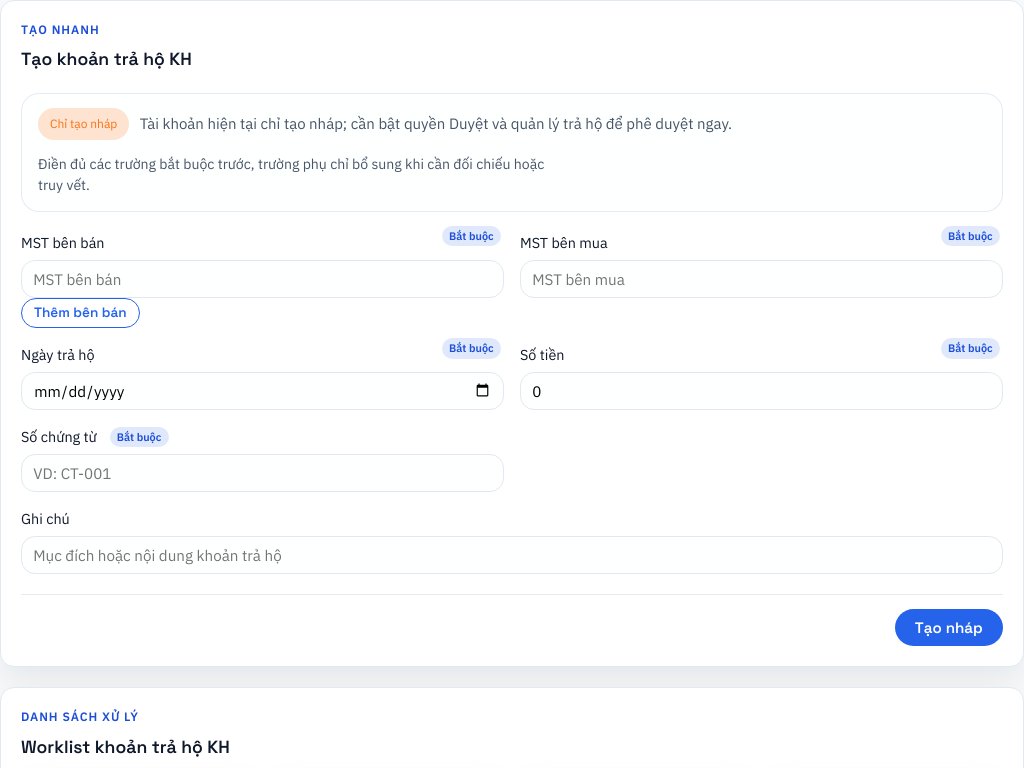
Test: ManualAdvancesSection › requires advance number before creating a draft
Type "SELLER01" into the field labelled "MST bên bán" at (262, 279), box [21, 260, 504, 298]
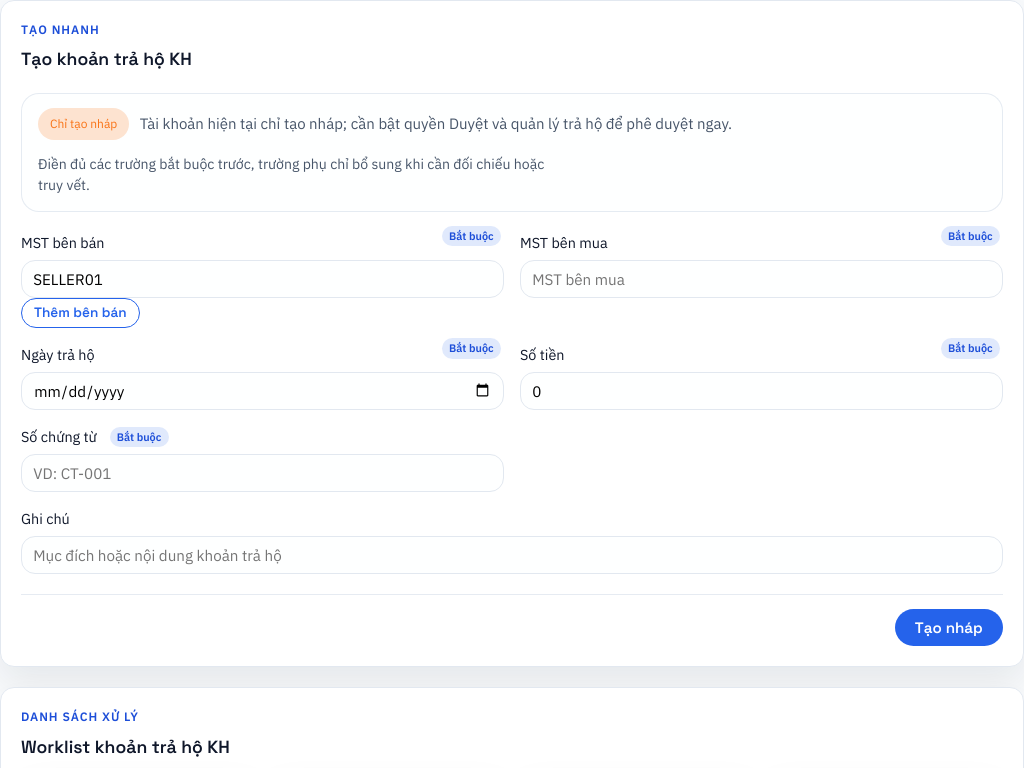
Type "CUST01" into the field labelled "MST bên mua" at (762, 279), box [520, 260, 1003, 298]
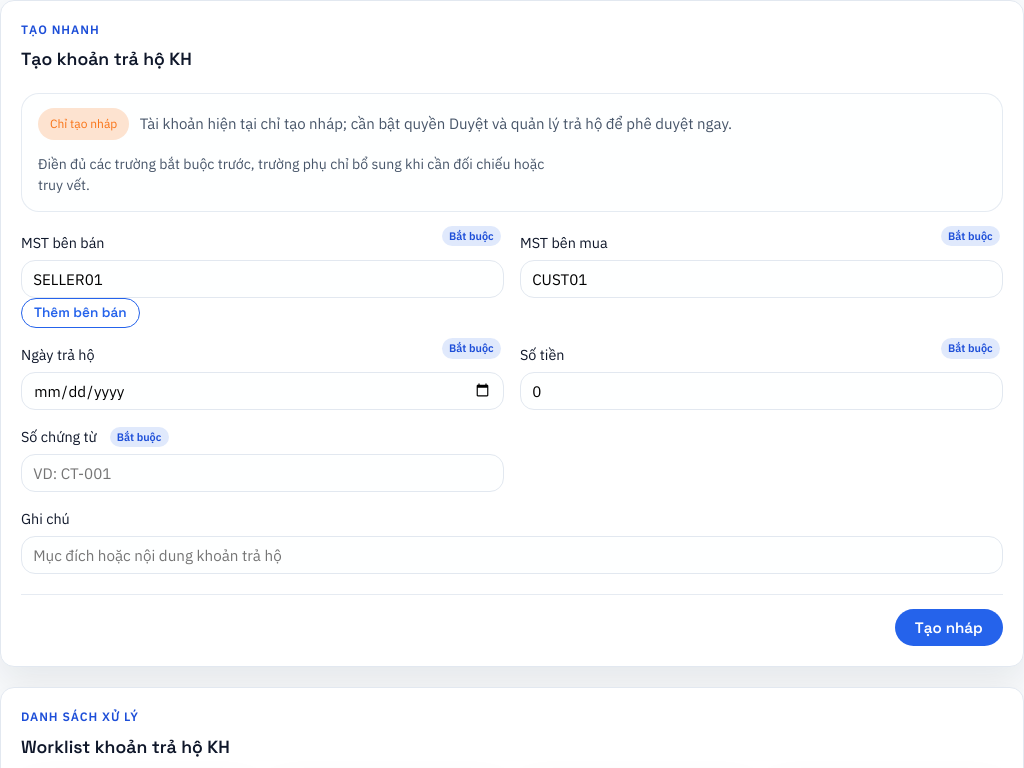
Type "2026-03-20" into the date field labelled "Ngày trả hộ" at (262, 391), box [21, 372, 504, 410]
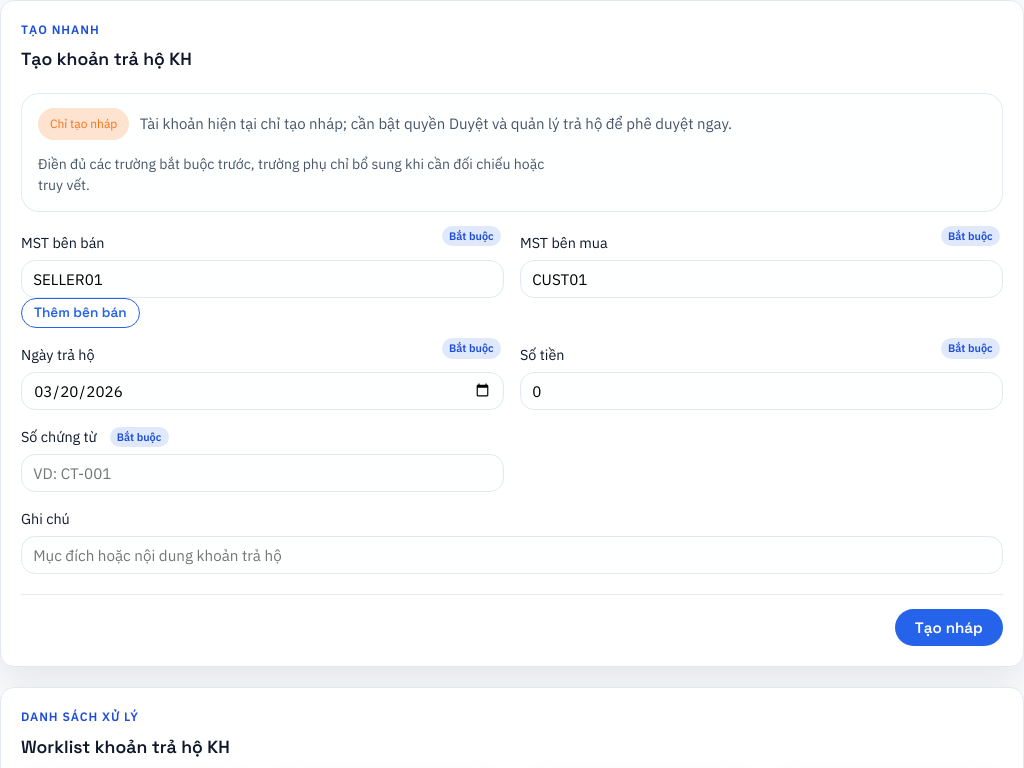
Replace the text in the field labelled "Số tiền" with "100000" at (762, 391), box [520, 372, 1003, 410]
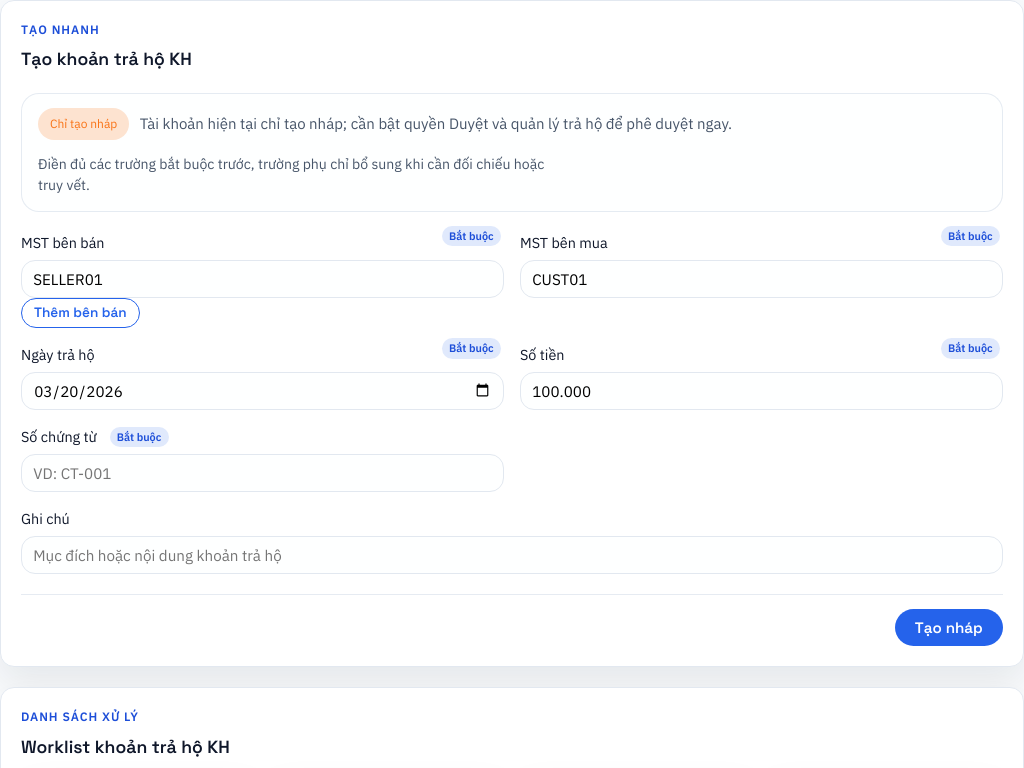
Click the button "Tạo nháp" at (949, 628), box [895, 609, 1003, 646]
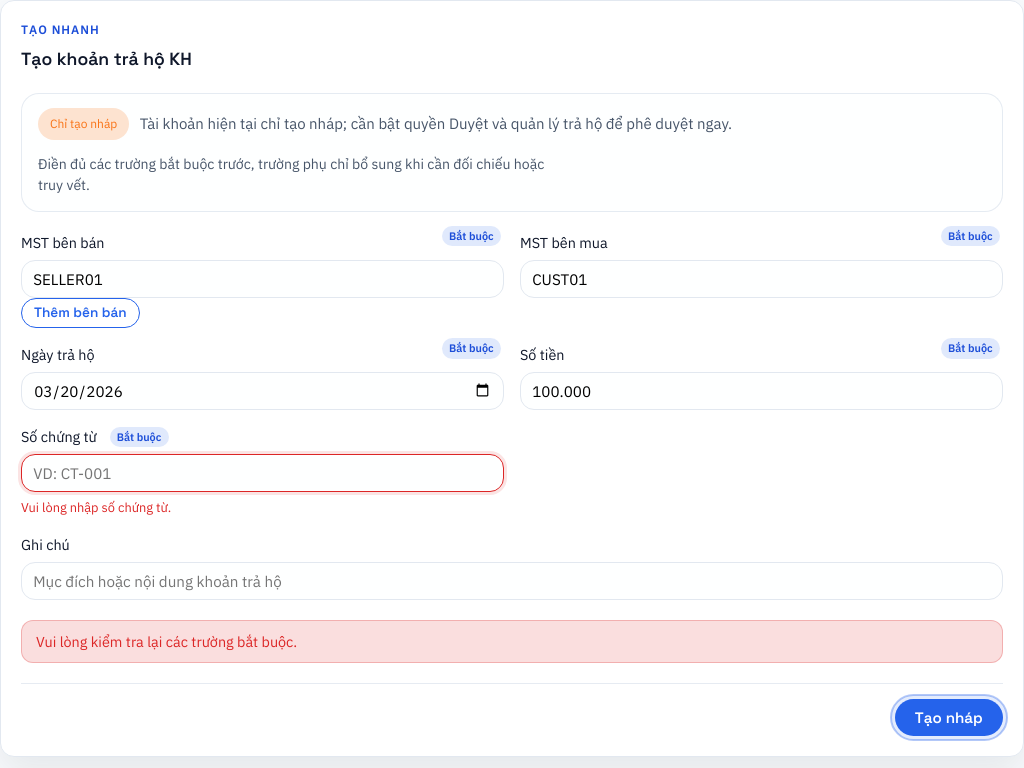
Expected: the text "Vui lòng nhập số chứng từ." is shown, [21, 499, 171, 516]
